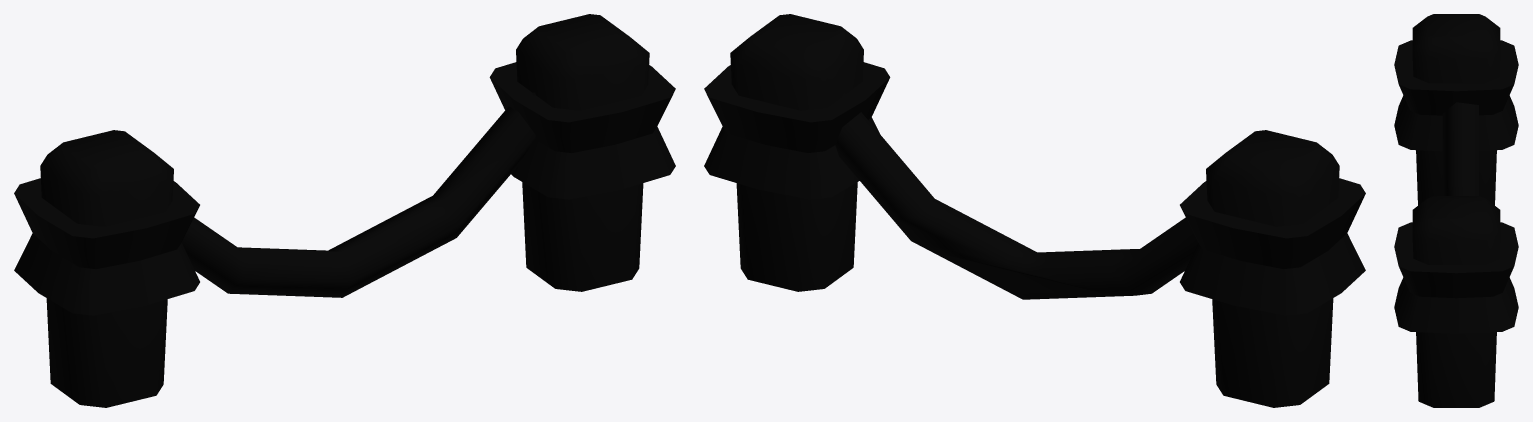
File: fence.glb
The picture shows the model from 3 angles, left to right: view 1: azimuth 30°, elevation 25°; view 2: azimuth 150°, elevation 25°; view 3: azimuth 270°, elevation 25°; orthographic projection. The views are drawn at different scales.
Parts seen in each view (by area): view 1: fence; view 2: fence; view 3: fence.
Boxes of the visible parts, box(x1,y1,x2,y2) form: fence: box(14, 14, 675, 407); fence: box(704, 14, 1365, 407); fence: box(1394, 14, 1518, 407).
Size of the model in its own units: 1.1 by 0.4 by 0.2459.
1 material, 1 textured.
